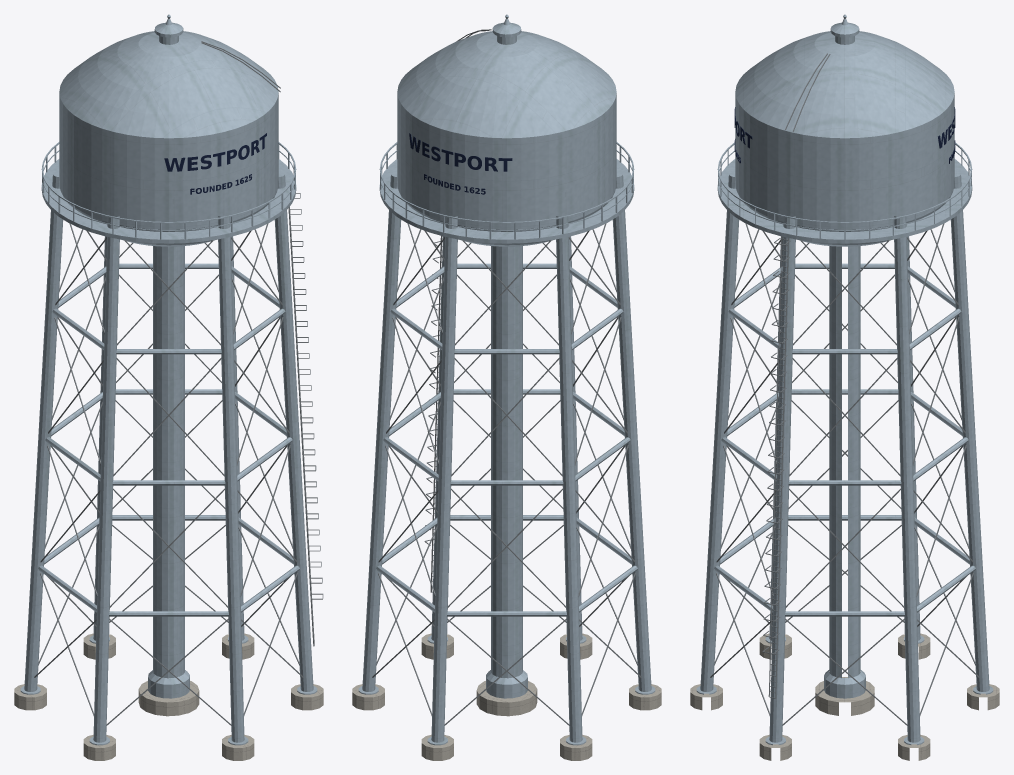
The model's file is water-tower.glb.
3 renders of one model, left to right at view 1: azimuth 30°, elevation 25°; view 2: azimuth 150°, elevation 25°; view 3: azimuth 270°, elevation 25°, orthographic.
Visible parts, largest first — view 1: WaterTower, Lettering; view 2: WaterTower, Lettering; view 3: WaterTower, Lettering.
Part boxes in pixels (x1,y1,x2,y2): WaterTower: [14, 14, 323, 760]; Lettering: [164, 133, 266, 194]; WaterTower: [352, 14, 661, 760]; Lettering: [409, 133, 512, 194]; WaterTower: [690, 14, 999, 760]; Lettering: [734, 107, 955, 163].
Size of the model in its own units: 16.17 by 45.1 by 18.33.
4 materials, 2 textured.
